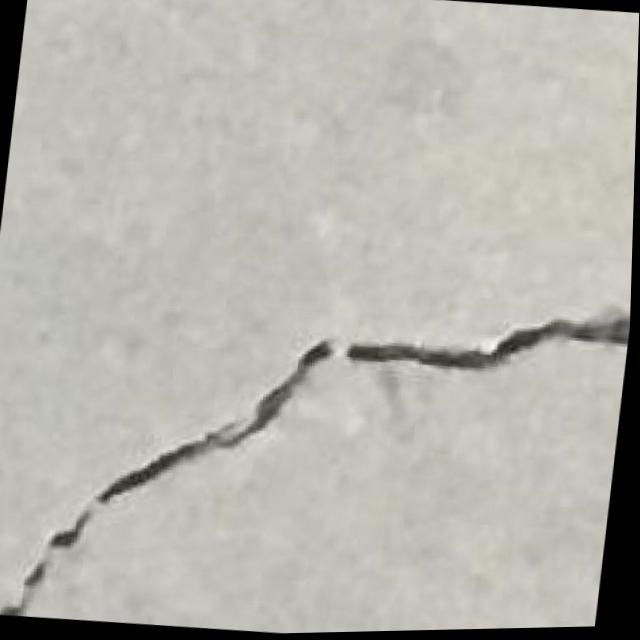Crack: (0, 239, 634, 640)
